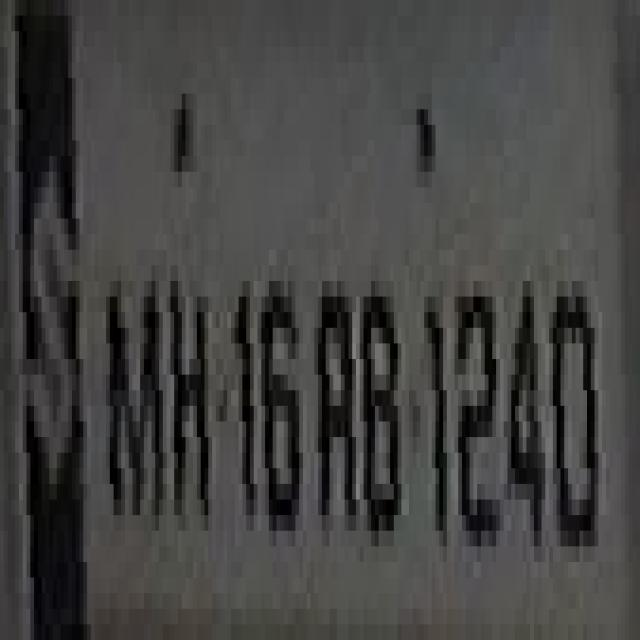license_plate: (19, 78, 640, 593)
